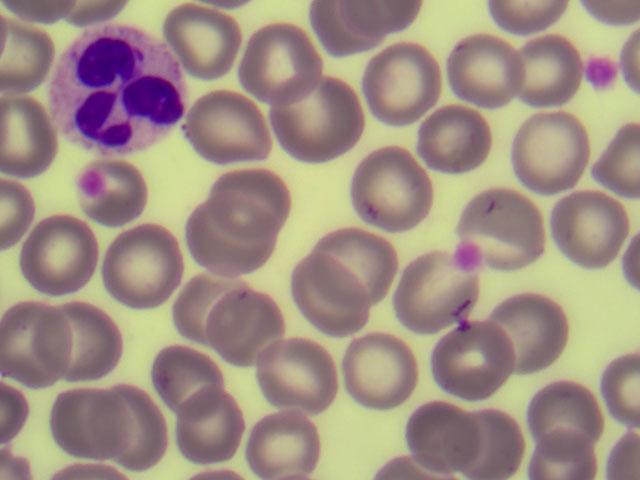Platelets: (588, 56, 618, 89), (455, 244, 481, 270), (79, 171, 105, 194), (455, 315, 472, 332)
RBC: (267, 72, 365, 162), (347, 145, 433, 230), (312, 223, 396, 310), (289, 249, 378, 331), (255, 335, 340, 418), (188, 196, 272, 277), (398, 252, 479, 334), (365, 38, 440, 126), (40, 299, 122, 379), (462, 186, 546, 264), (494, 293, 568, 374), (106, 224, 178, 307), (511, 31, 584, 112), (240, 26, 319, 100), (345, 334, 418, 414), (173, 269, 251, 343), (3, 301, 70, 386), (527, 375, 600, 453), (206, 292, 285, 364), (435, 329, 513, 401), (514, 116, 588, 191), (189, 92, 271, 159), (419, 98, 490, 174), (210, 173, 290, 240), (450, 407, 524, 478), (56, 389, 132, 456), (150, 352, 227, 418), (26, 219, 97, 290), (105, 389, 166, 470), (449, 34, 519, 104), (407, 405, 484, 468), (178, 389, 244, 462), (557, 191, 619, 267), (251, 411, 316, 478), (310, 1, 391, 54), (1, 15, 51, 96), (165, 1, 244, 51), (1, 99, 51, 176), (527, 425, 597, 480), (597, 119, 640, 195), (487, 1, 578, 32), (600, 353, 640, 423), (376, 451, 458, 480), (1, 178, 32, 254), (110, 161, 147, 224), (605, 420, 640, 480), (339, 1, 413, 29), (5, 1, 76, 28), (1, 388, 29, 443), (581, 1, 639, 26), (54, 462, 124, 480), (621, 30, 640, 93), (622, 233, 640, 289)
WBC: (57, 23, 179, 156)
